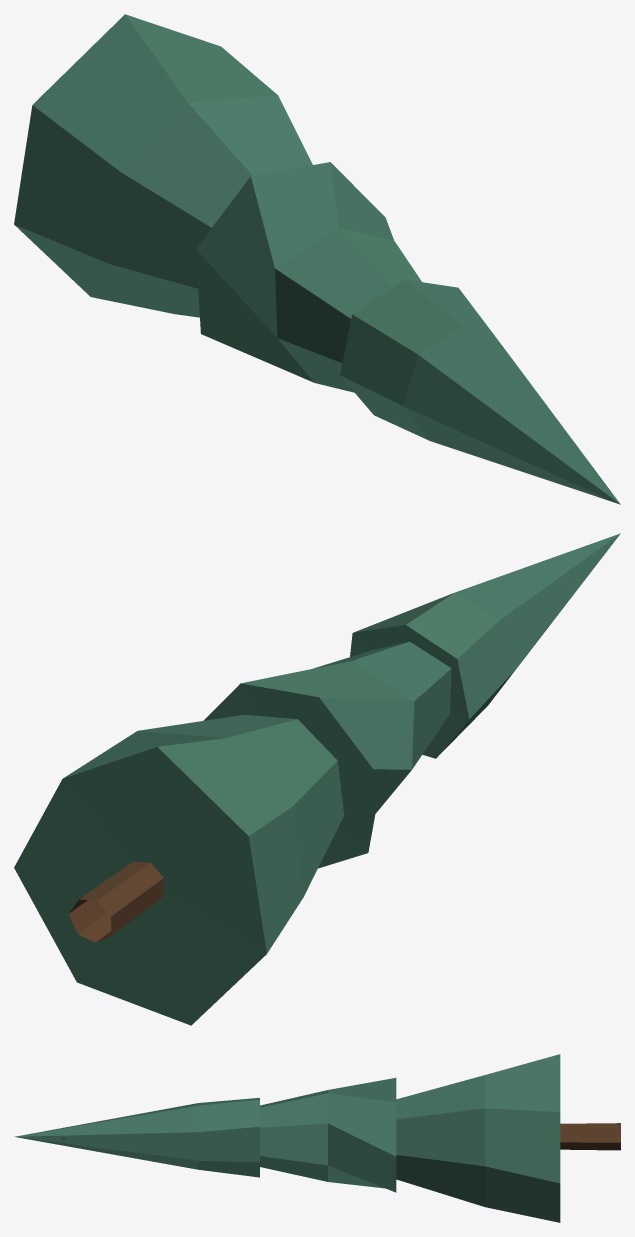
The model's file is grown.glb.
3 renders of one model, top to bottom at view 1: azimuth 30°, elevation 25°; view 2: azimuth 150°, elevation 25°; view 3: azimuth 270°, elevation 25°, orthographic. The views are drawn at different scales.
Visible parts, largest first — view 1: tree_09_grown; view 2: tree_09_grown; view 3: tree_09_grown.
Part boxes in pixels (<box>): tree_09_grown: <box>14,14,620,504</box>; tree_09_grown: <box>14,533,620,1025</box>; tree_09_grown: <box>14,1054,620,1222</box>.
Bounding box in the file's own units: 10.51 × 10.74 × 38.08.
